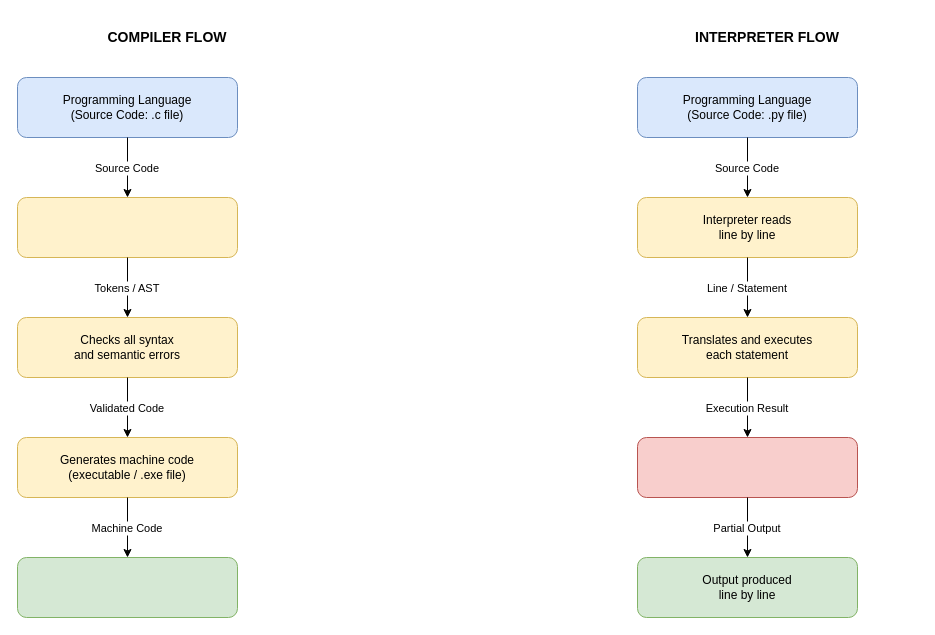
The diagram is 935 pixels wide and 635 high, and some of its shapes have lost their labels. The shapes that lost their labels are listed below. From the top down, each one's centre as x and y in pixels, then its label:
the point at 127,227: Compiler reads entire source code
the point at 747,467: Error stops execution at that line immediately
the point at 127,587: Program runs directly from executable
